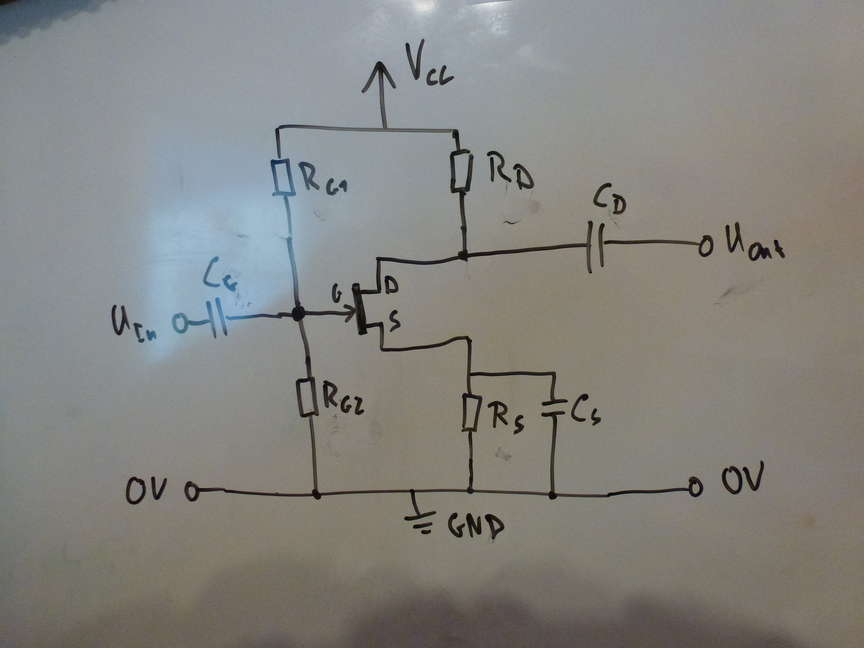capacitor.unpolarized: (581, 218, 611, 275), (203, 296, 233, 341), (540, 397, 568, 419)
gnd: (403, 508, 439, 537)
junction: (290, 304, 307, 324), (457, 248, 471, 263), (310, 486, 323, 502), (449, 125, 463, 139), (463, 332, 475, 344), (373, 253, 384, 265), (547, 489, 558, 501), (273, 122, 284, 134), (465, 485, 476, 496), (377, 343, 387, 355), (381, 123, 391, 135), (549, 368, 559, 379), (408, 486, 418, 496), (465, 369, 474, 379)
resistor: (449, 146, 475, 196), (294, 375, 321, 420), (268, 156, 296, 197), (460, 389, 483, 433)
terminal: (695, 233, 716, 259), (183, 479, 204, 503), (171, 311, 192, 335), (686, 475, 705, 500)
text: (725, 221, 787, 261), (405, 38, 455, 86), (485, 149, 535, 191), (110, 303, 160, 344), (446, 510, 506, 542), (298, 160, 348, 196), (322, 378, 365, 417), (721, 460, 766, 496), (202, 255, 240, 293), (487, 400, 526, 435), (125, 475, 167, 505), (592, 181, 628, 215), (570, 392, 602, 427), (383, 274, 400, 296), (389, 308, 402, 332), (330, 282, 343, 304)
transistor: (342, 282, 387, 336)
vss: (360, 59, 399, 95)
